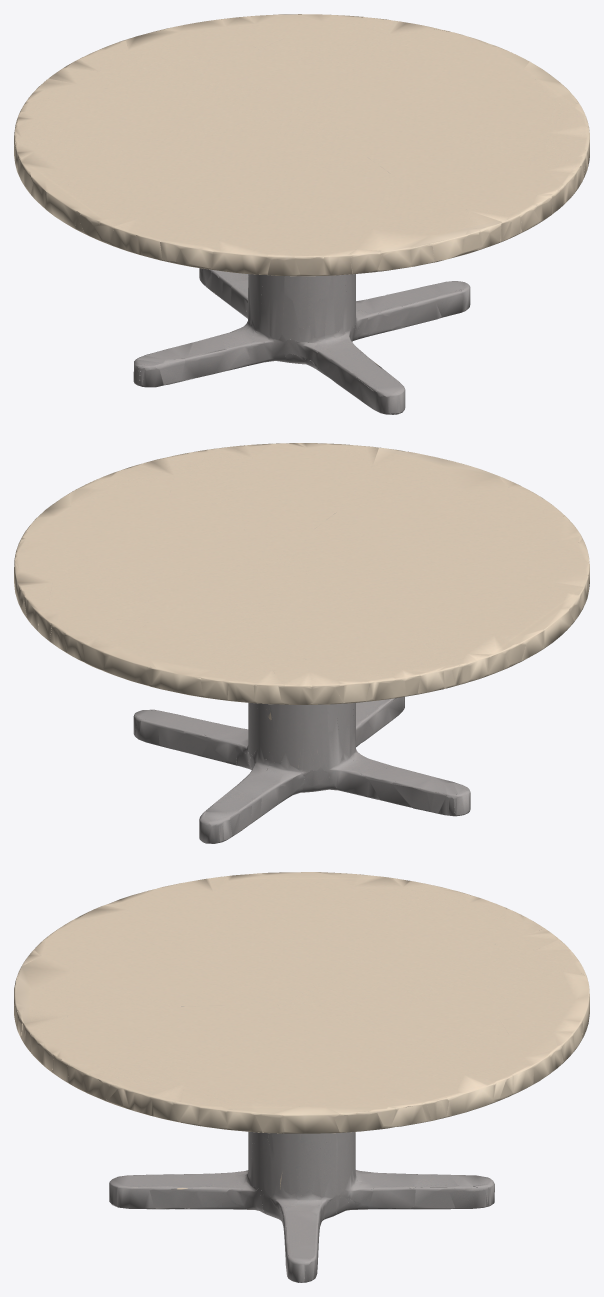
The model's file is breakroom_table.glb.
The picture shows the model from 3 angles, top to bottom: view 1: azimuth 30°, elevation 25°; view 2: azimuth 150°, elevation 25°; view 3: azimuth 270°, elevation 25°; orthographic projection.
Parts seen in each view (by area): view 1: Mesh_0; view 2: Mesh_0; view 3: Mesh_0.
Boxes of the visible parts, x1=… form: Mesh_0: x1=14, y1=14, x2=589, y2=414; Mesh_0: x1=14, y1=443, x2=589, y2=843; Mesh_0: x1=14, y1=872, x2=589, y2=1282.
Size of the model in its own units: 1.9 by 0.7667 by 1.9.
Materials: 1 (1 with a texture image).
